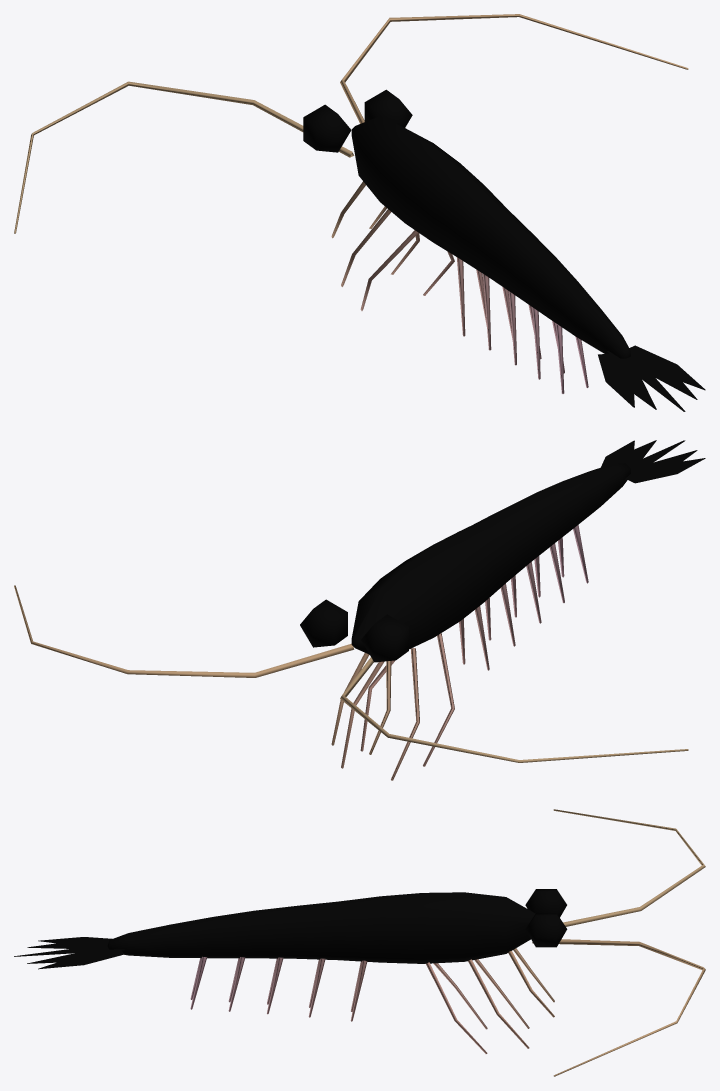
Rendered from krill_lo.glb.
3 renders of one model, top to bottom at view 1: azimuth 30°, elevation 25°; view 2: azimuth 150°, elevation 25°; view 3: azimuth 270°, elevation 25°, orthographic. The views are drawn at different scales.
Visible parts, largest first — view 1: krill_lo; view 2: krill_lo; view 3: krill_lo.
Part boxes in pixels (left/top/right/bottom): krill_lo: left=14, top=14, right=705, bottom=411; krill_lo: left=14, top=440, right=705, bottom=780; krill_lo: left=14, top=809, right=705, bottom=1076.
Bounding box in the file's own units: 0.0331 × 0.00865 × 0.0363.
